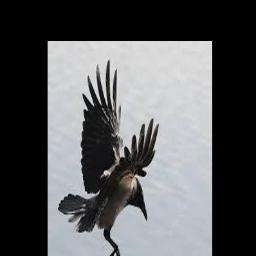Crow: (57, 59, 158, 256)
